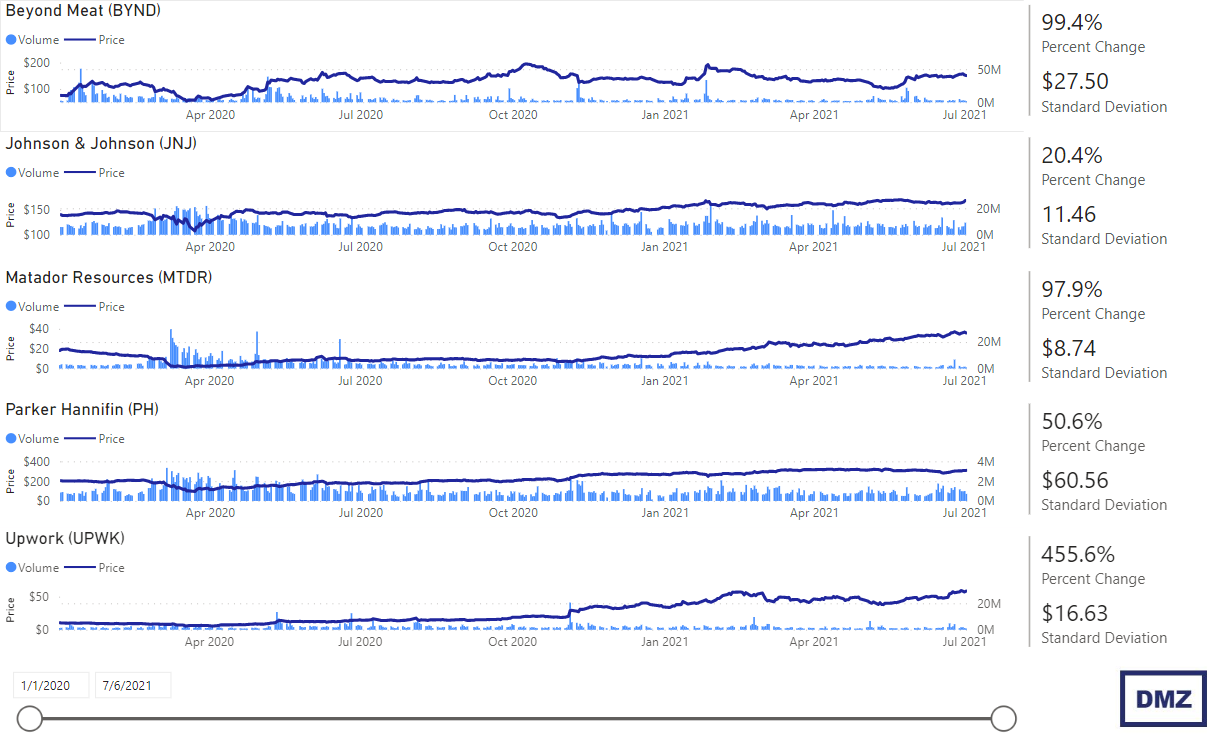

What the dashboard file says about the page in this screenshot:
{"tool":"powerbi","page":{"name":"Stocks","canvas":[1280,720],"ordinal":0},"visuals":[{"type":"lineClusteredColumnComboChart","title":"Beyond Meat (BYND)","fields":{"Y2":["All_Stock.adjclose"],"Y":["All_Stock.volume"],"Category":["Calendar.Date"]},"box":[0,0,1000.2,129.7],"z":0},{"type":"multiRowCard","fields":{"Values":["All_Stock.Pandemic_Change","All_Stock.asdf"]},"box":[999,0,242.6,129.7],"z":1000},{"type":"slicer","fields":{"Values":["Calendar.Date"]},"box":[0,644.9,999.7,75.1],"z":2000},{"type":"lineClusteredColumnComboChart","title":"Johnson & Johnson (JNJ)","fields":{"Y2":["All_Stock.adjclose"],"Y":["All_Stock.volume"],"Category":["Calendar.Date"]},"box":[0,129.7,999,129.7],"z":3000},{"type":"lineClusteredColumnComboChart","title":"Matador Resources (MTDR)","fields":{"Y2":["All_Stock.adjclose"],"Y":["All_Stock.volume"],"Category":["Calendar.Date"]},"box":[0,259.4,1000.2,129.7],"z":4000},{"type":"lineClusteredColumnComboChart","title":"Parker Hannifin (PH)","fields":{"Y2":["All_Stock.adjclose"],"Y":["All_Stock.volume"],"Category":["Calendar.Date"]},"box":[0,389,999,129.7],"z":5000},{"type":"lineClusteredColumnComboChart","title":"Upwork (UPWK)","fields":{"Y2":["All_Stock.adjclose"],"Y":["All_Stock.volume"],"Category":["Calendar.Date"]},"box":[0,515.1,1000.2,129.7],"z":6000},{"type":"multiRowCard","fields":{"Values":["Stock Value (JNJ).Percent Change JNJ","Stock Value (JNJ).Standard Deviation JNJ"]},"box":[999,129.7,242.6,129.7],"z":7000},{"type":"multiRowCard","fields":{"Values":["Stock Value (MTDR).Percent Change MTDR","Stock Value (MTDR).Standard Deviation MTDR"]},"box":[999,259.4,242.6,129.7],"z":8000},{"type":"multiRowCard","fields":{"Values":["Stock Value (PH).Percent Change PH","Stock Value (PH).Standard Deviation PH"]},"box":[999,389,242.6,129.7],"z":9000},{"type":"multiRowCard","fields":{"Values":["Stock Value (UPWK).Percent Change UPWK","Stock Value (UPWK).Standard Deviation UPWK"]},"box":[999,518.7,242.6,129.7],"z":10000},{"type":"image","box":[1000.2,644.8,269,75.6],"z":11000}]}

Visuals, with their boxes on the page's 1280x720 design canvas (x1, y1, x2, y2). These are canvas units, not pixel positions in the 1227x738 screenshot, which may show the page scaled, cropped or inside an application window:
"Beyond Meat (BYND)" lineClusteredColumnComboChart: Rect(0, 0, 1000, 130)
multiRowCard - All_Stock.Pandemic_Change x All_Stock.asdf: Rect(999, 0, 1242, 130)
slicer - Calendar.Date: Rect(0, 645, 1000, 720)
"Johnson & Johnson (JNJ)" lineClusteredColumnComboChart: Rect(0, 130, 999, 259)
"Matador Resources (MTDR)" lineClusteredColumnComboChart: Rect(0, 259, 1000, 389)
"Parker Hannifin (PH)" lineClusteredColumnComboChart: Rect(0, 389, 999, 519)
"Upwork (UPWK)" lineClusteredColumnComboChart: Rect(0, 515, 1000, 645)
multiRowCard - Stock Value (JNJ).Percent Change JNJ x Stock Value (JNJ).Standard Deviation JNJ: Rect(999, 130, 1242, 259)
multiRowCard - Stock Value (MTDR).Percent Change MTDR x Stock Value (MTDR).Standard Deviation MTDR: Rect(999, 259, 1242, 389)
multiRowCard - Stock Value (PH).Percent Change PH x Stock Value (PH).Standard Deviation PH: Rect(999, 389, 1242, 519)
multiRowCard - Stock Value (UPWK).Percent Change UPWK x Stock Value (UPWK).Standard Deviation UPWK: Rect(999, 519, 1242, 648)
image: Rect(1000, 645, 1269, 720)
